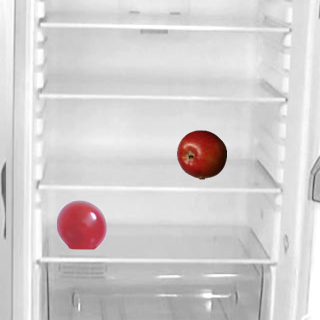Apple Braeburn: (176, 129, 226, 179)
Redcurrant: (56, 199, 106, 249)
